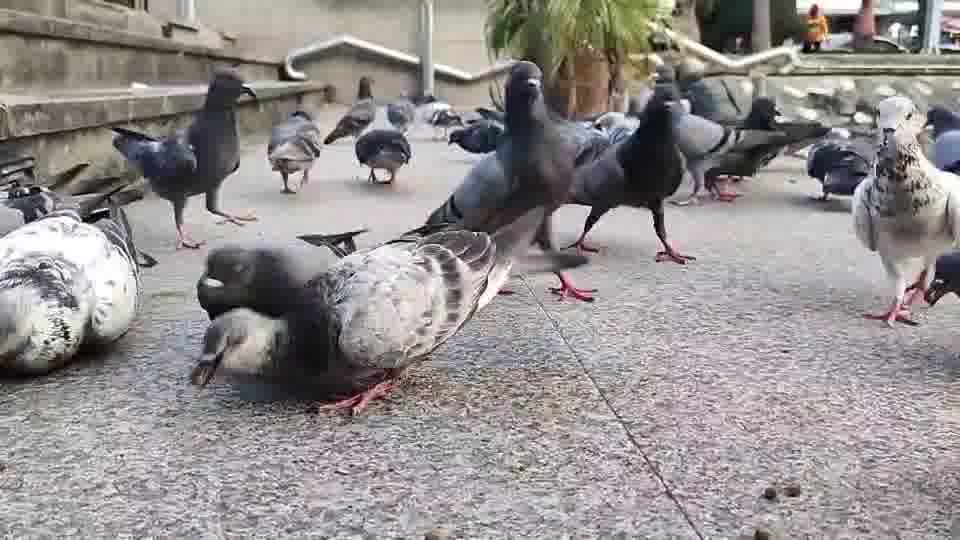Pigeon: (190, 225, 498, 417), (400, 60, 599, 304), (189, 226, 368, 388), (108, 64, 259, 250), (561, 82, 697, 265), (849, 103, 959, 328), (0, 206, 143, 376), (0, 155, 158, 268), (352, 99, 413, 184), (266, 108, 322, 194)
